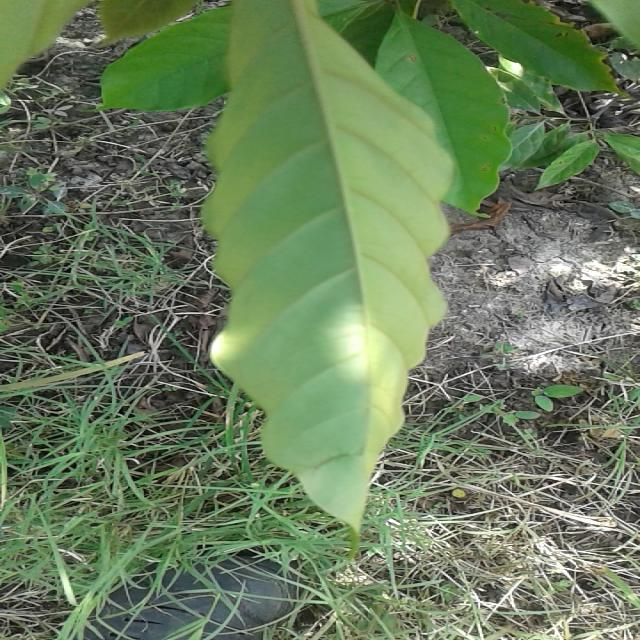Sanas: (202, 0, 511, 538)
